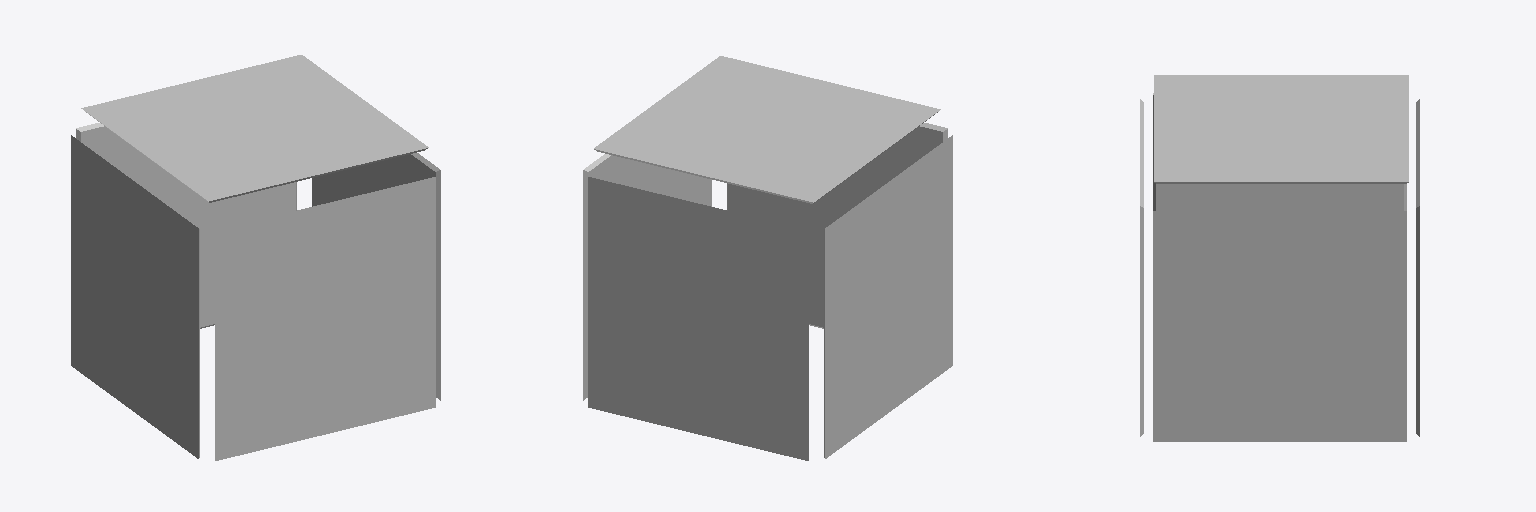
The model's file is L3BoxWindows.obj.
3 renders of one model, left to right at view 1: azimuth 30°, elevation 25°; view 2: azimuth 150°, elevation 25°; view 3: azimuth 270°, elevation 25°, orthographic.
Visible parts, largest first — view 1: tutTrapWindows2:Mesh1 tutTrapWindows2:initialShadingGroup1 tutTr; view 2: tutTrapWindows2:Mesh1 tutTrapWindows2:initialShadingGroup1 tutTr; view 3: tutTrapWindows2:Mesh1 tutTrapWindows2:initialShadingGroup1 tutTr.
Part boxes in pixels (left/top/right/bottom): tutTrapWindows2:Mesh1 tutTrapWindows2:initialShadingGroup1 tutTr: left=71, top=55, right=440, bottom=460; tutTrapWindows2:Mesh1 tutTrapWindows2:initialShadingGroup1 tutTr: left=583, top=56, right=952, bottom=460; tutTrapWindows2:Mesh1 tutTrapWindows2:initialShadingGroup1 tutTr: left=1140, top=75, right=1419, bottom=441.
Bounding box in the file's own units: 1.89 × 1.9 × 1.89.